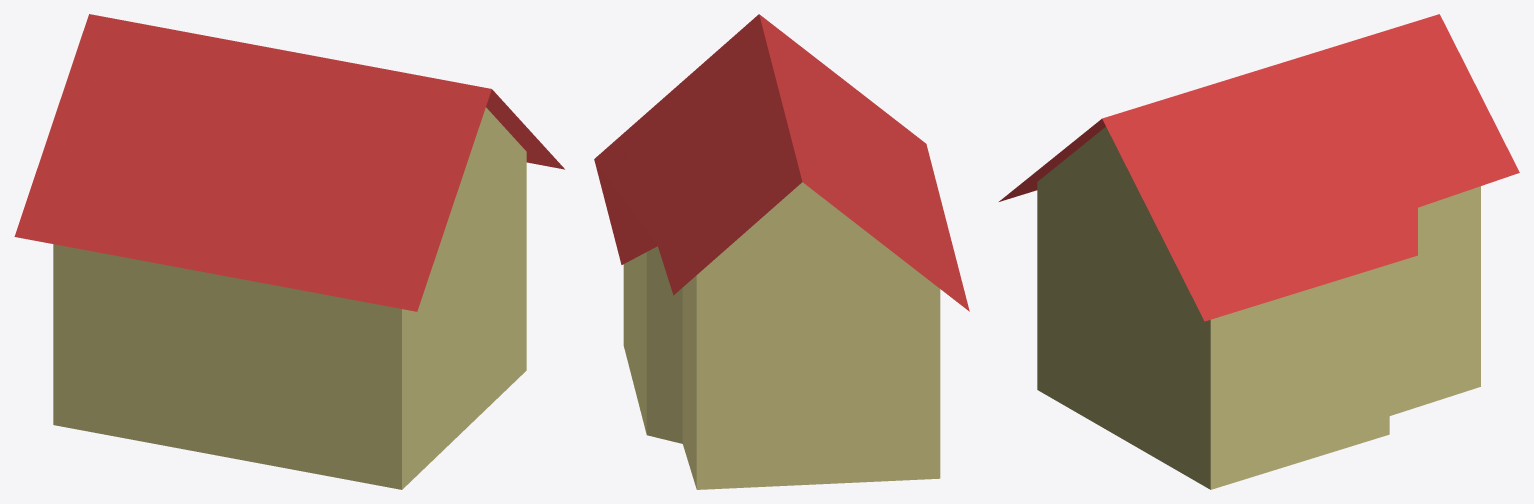
The picture shows the model from 3 angles, left to right: view 1: azimuth 30°, elevation 25°; view 2: azimuth 150°, elevation 25°; view 3: azimuth 270°, elevation 25°; orthographic projection. The views are drawn at different scales.
Bounding box in the file's own units: 18.82 × 18.55 × 12.9.
